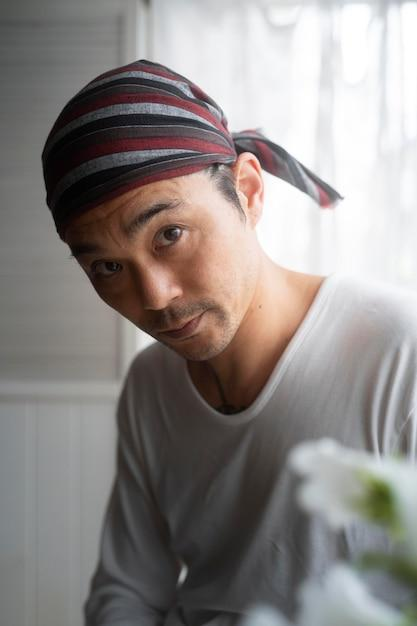cap: (28, 40, 243, 235)
